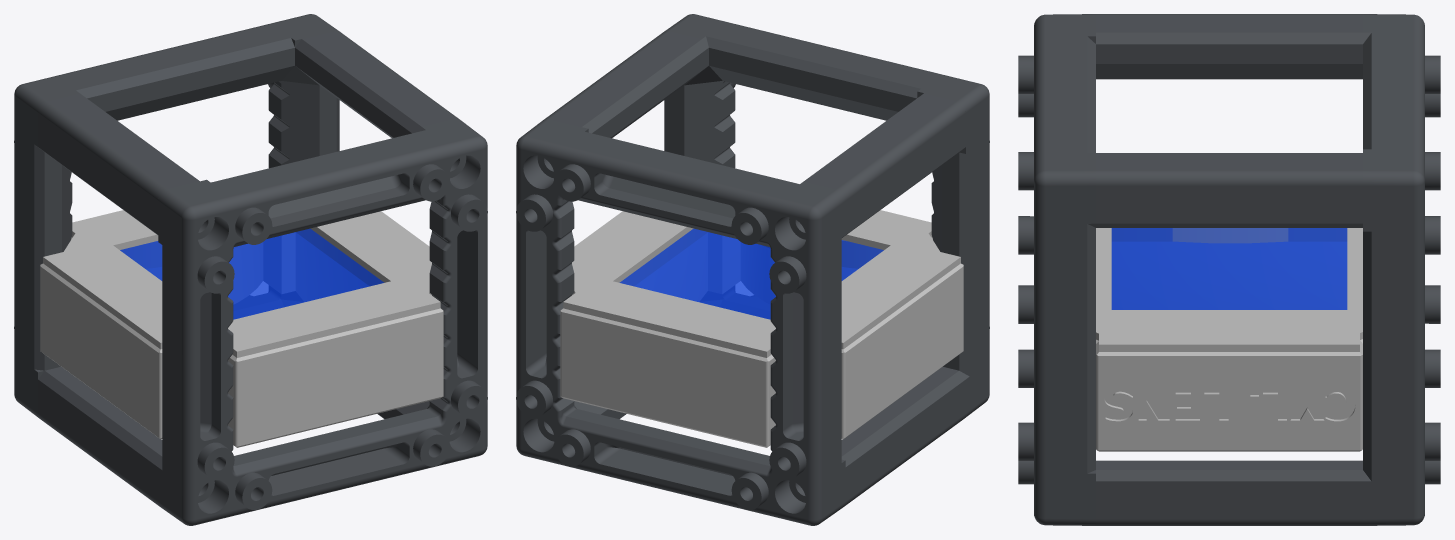
The model's file is ASS_-_2054_-_CUBLENCYL30x32F100_-_V04.glb.
3 views of the same model, side by side, from view 1: azimuth 30°, elevation 25°; view 2: azimuth 150°, elevation 25°; view 3: azimuth 270°, elevation 25° (orthographic). The views are drawn at different scales.
Visible parts, largest first — view 1: PRT - 1003 - CUBHLF111 - V04:2, =>[0:1:1:4], PRT - 1003 - CUBHLF111 - V04:1, BUY - Lens cylindrical - f100 30x32 pl-cx:2; view 2: PRT - 1003 - CUBHLF111 - V04:1, =>[0:1:1:4], PRT - 1003 - CUBHLF111 - V04:2, BUY - Lens cylindrical - f100 30x32 pl-cx:2; view 3: PRT - 1003 - CUBHLF111 - V04:1, =>[0:1:1:4], PRT - 1003 - CUBHLF111 - V04:2, BUY - Lens cylindrical - f100 30x32 pl-cx:2.
Boxes of the visible parts, box(x1,y1,x2,y2) form: PRT - 1003 - CUBHLF111 - V04:2: box(38, 31, 487, 525); =>[0:1:1:4]: box(40, 210, 443, 447); PRT - 1003 - CUBHLF111 - V04:1: box(14, 14, 455, 429); BUY - Lens cylindrical - f100 30x32 pl-cx:2: box(120, 228, 384, 319); PRT - 1003 - CUBHLF111 - V04:1: box(516, 93, 965, 525); =>[0:1:1:4]: box(560, 210, 963, 447); PRT - 1003 - CUBHLF111 - V04:2: box(544, 14, 989, 506); BUY - Lens cylindrical - f100 30x32 pl-cx:2: box(619, 228, 883, 319); PRT - 1003 - CUBHLF111 - V04:1: box(1096, 14, 1440, 525); =>[0:1:1:4]: box(1096, 228, 1362, 451); PRT - 1003 - CUBHLF111 - V04:2: box(1018, 14, 1362, 525); BUY - Lens cylindrical - f100 30x32 pl-cx:2: box(1111, 228, 1347, 309).
Size of the model in its own units: 49.99 by 49.8 by 53.8.
